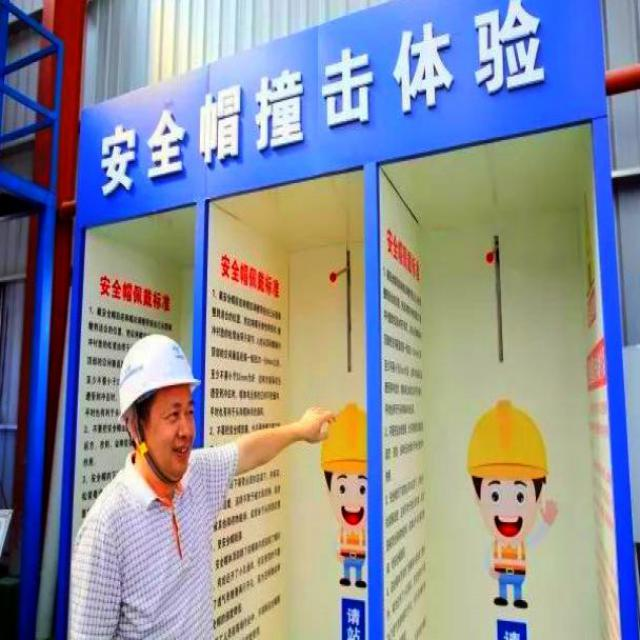helmet: (91, 334, 217, 484)
